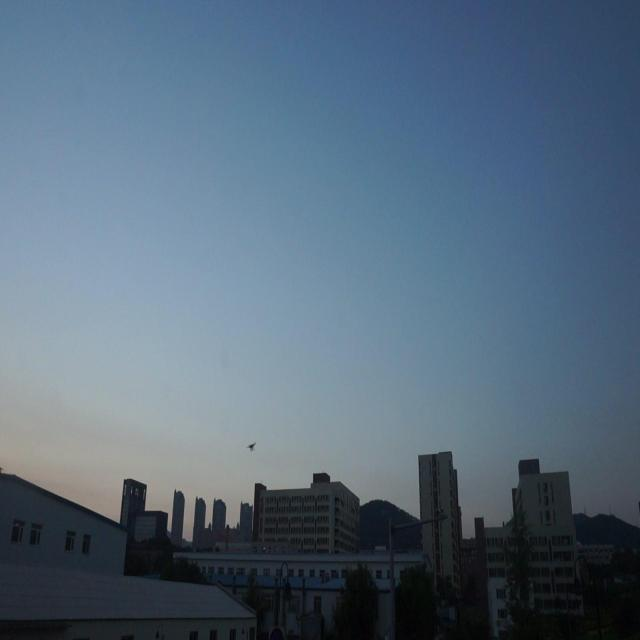drone: (245, 439, 257, 455)
